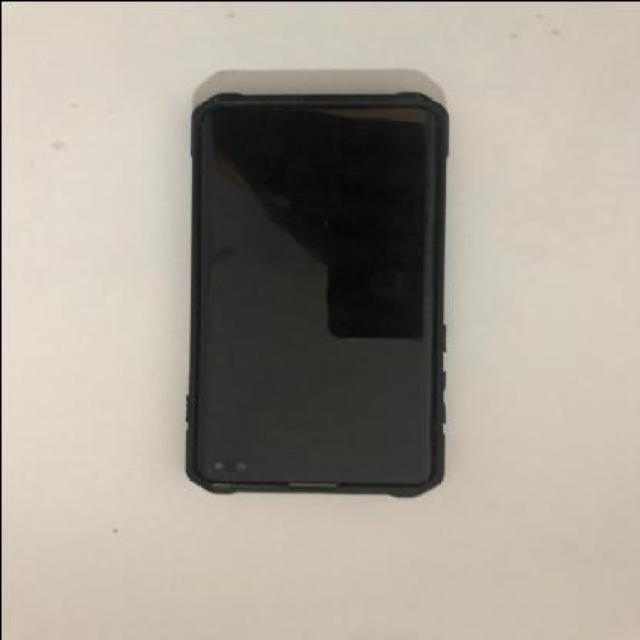phone: (185, 93, 449, 496)
